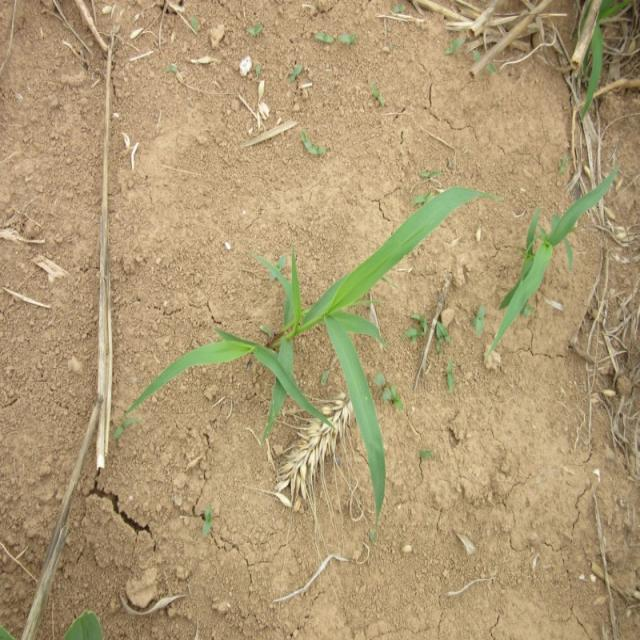bg: (120, 183, 488, 511)
